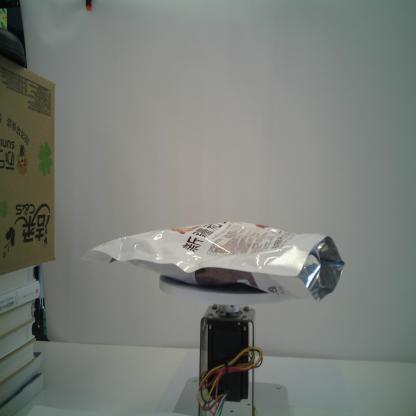Dried Food: (82, 219, 348, 306)
